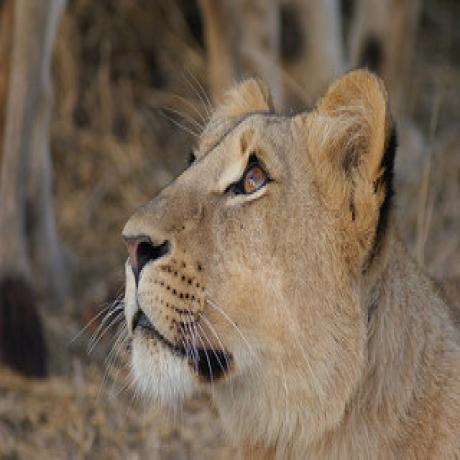Lion: (116, 71, 460, 460)
